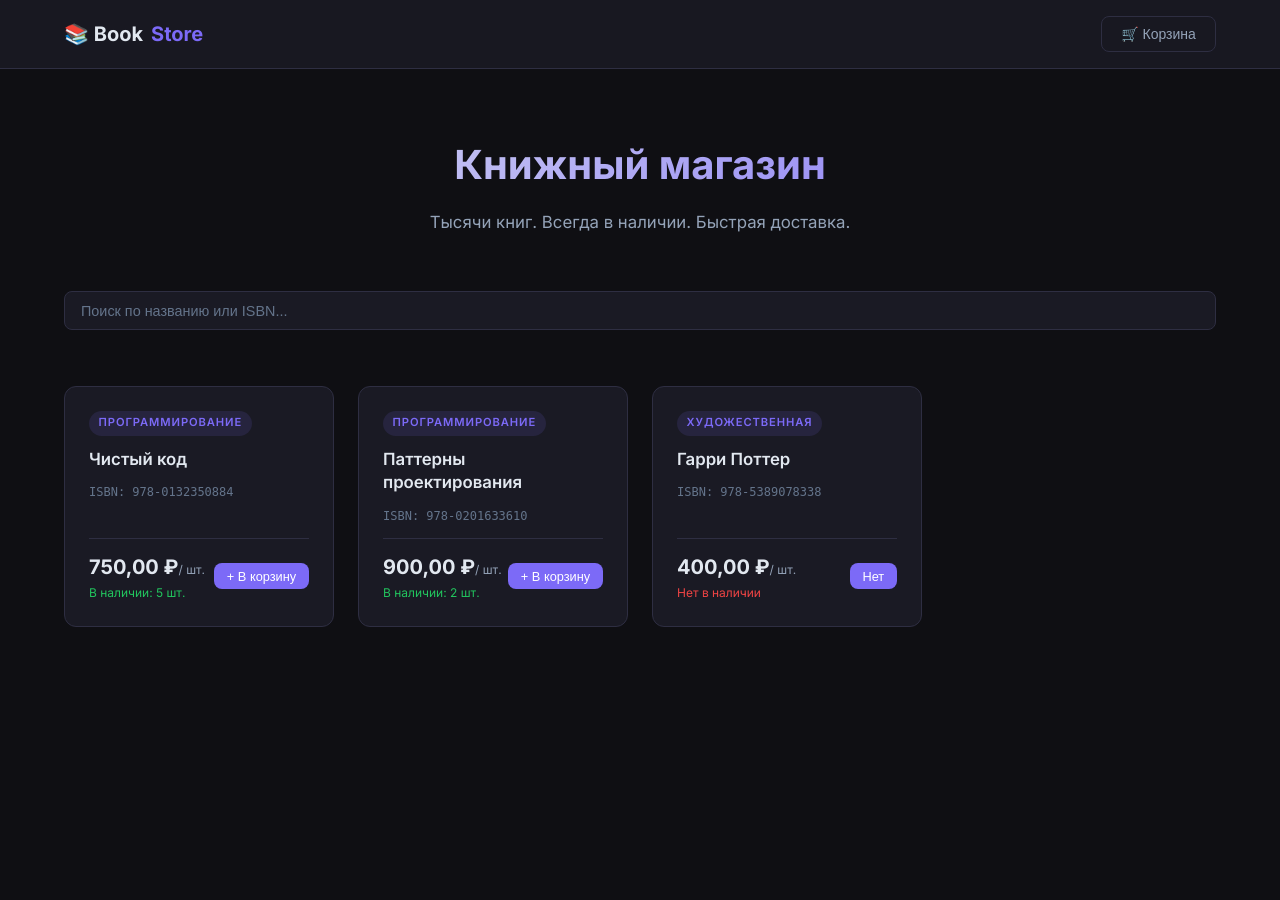
Test: BookList — поиск › показывает "не найдено" если нет совпадений
The width and height of the screenshot is (1280, 900).
Expected: the element with test id "books-grid" is shown, [64,386,922,627]
Type "Несуществующая книга" into the field with test id "search-input". click: (640, 311)
box: [64,292,1216,330]
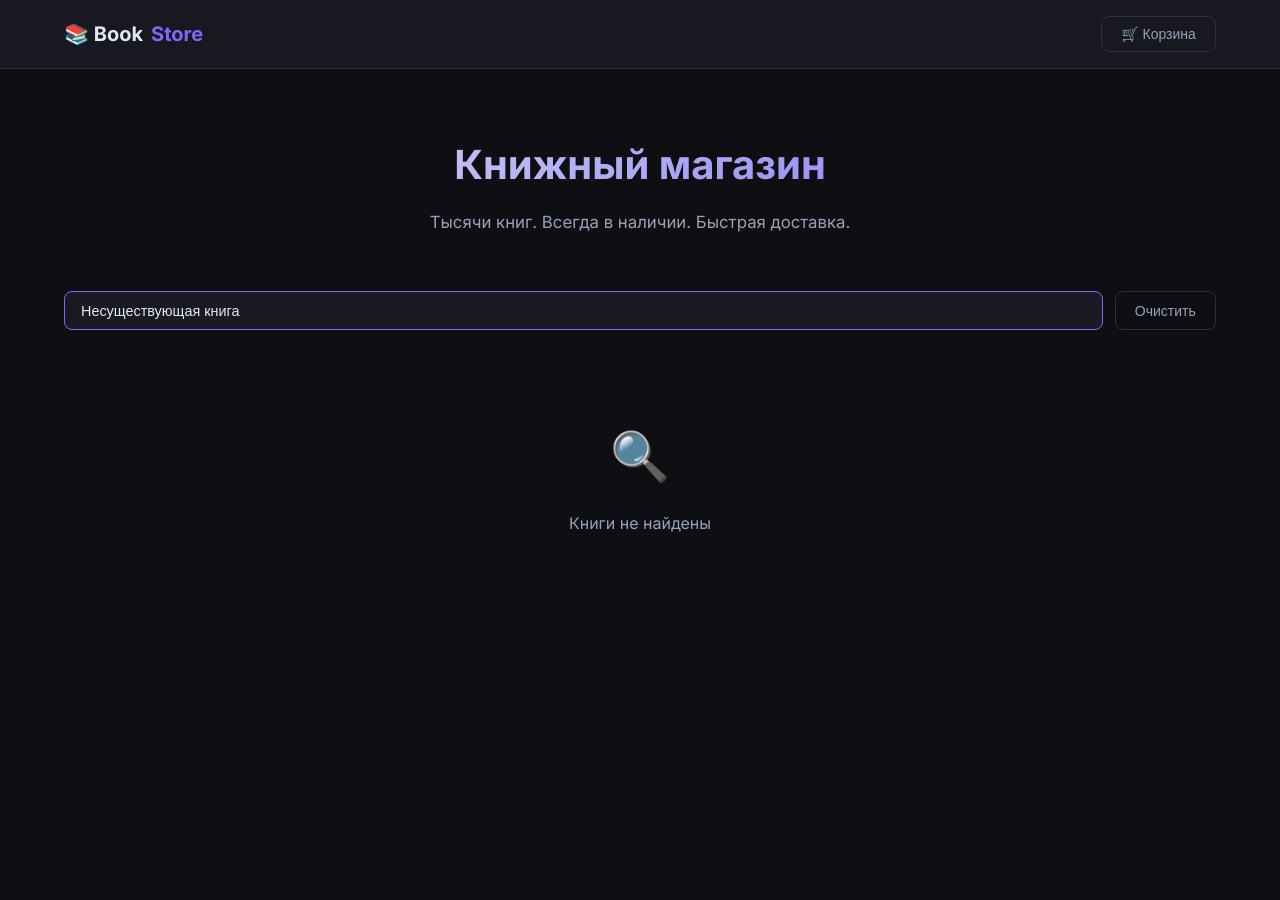
Expected: the element with test id "empty-state" is shown, [569,426,711,533]
